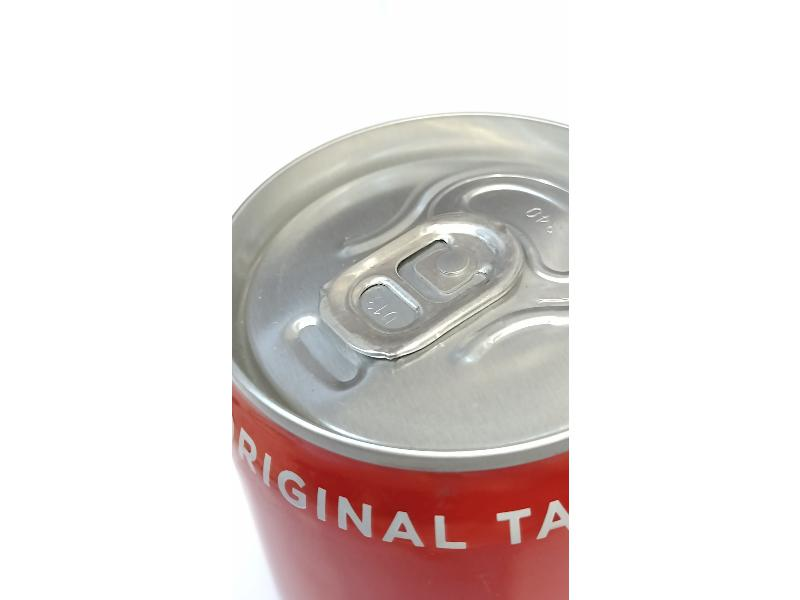can: (234, 102, 572, 593)
